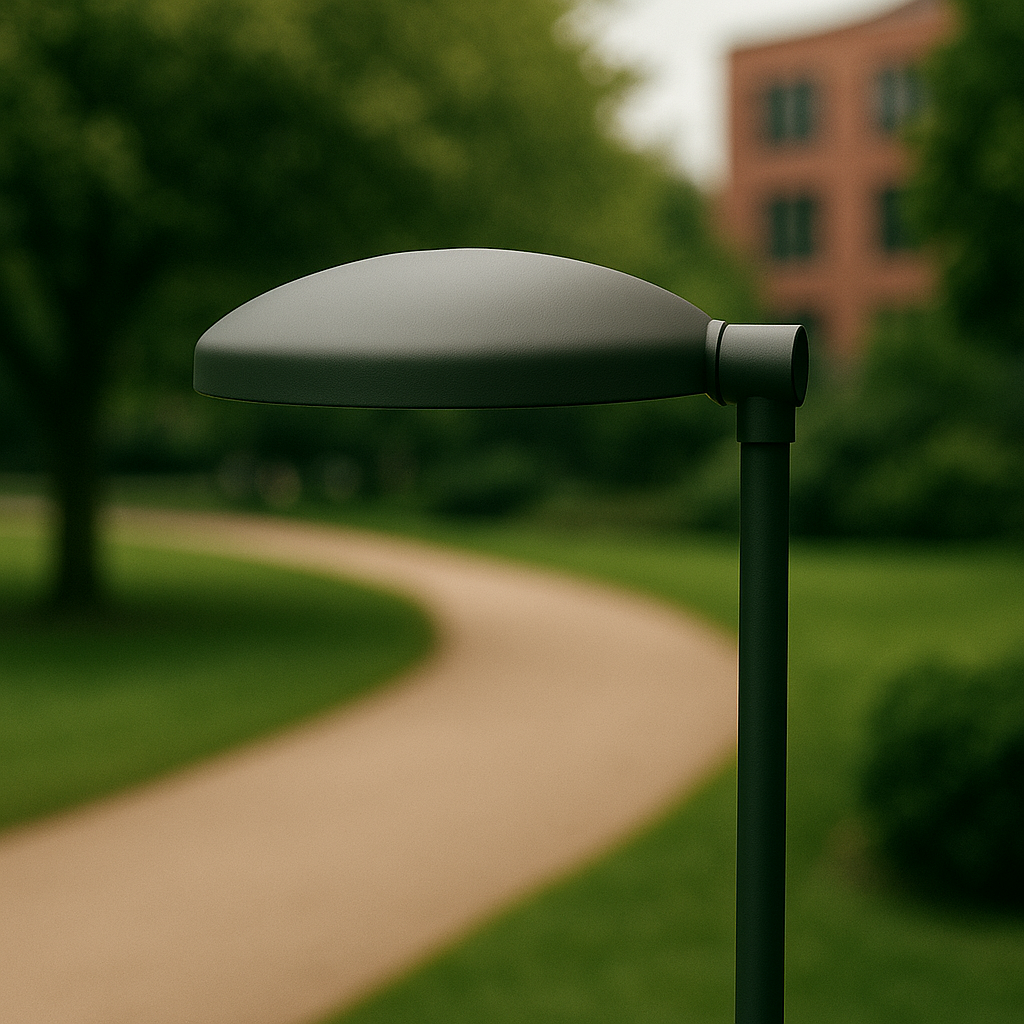Top_Street_Light: (158, 252, 742, 417)
